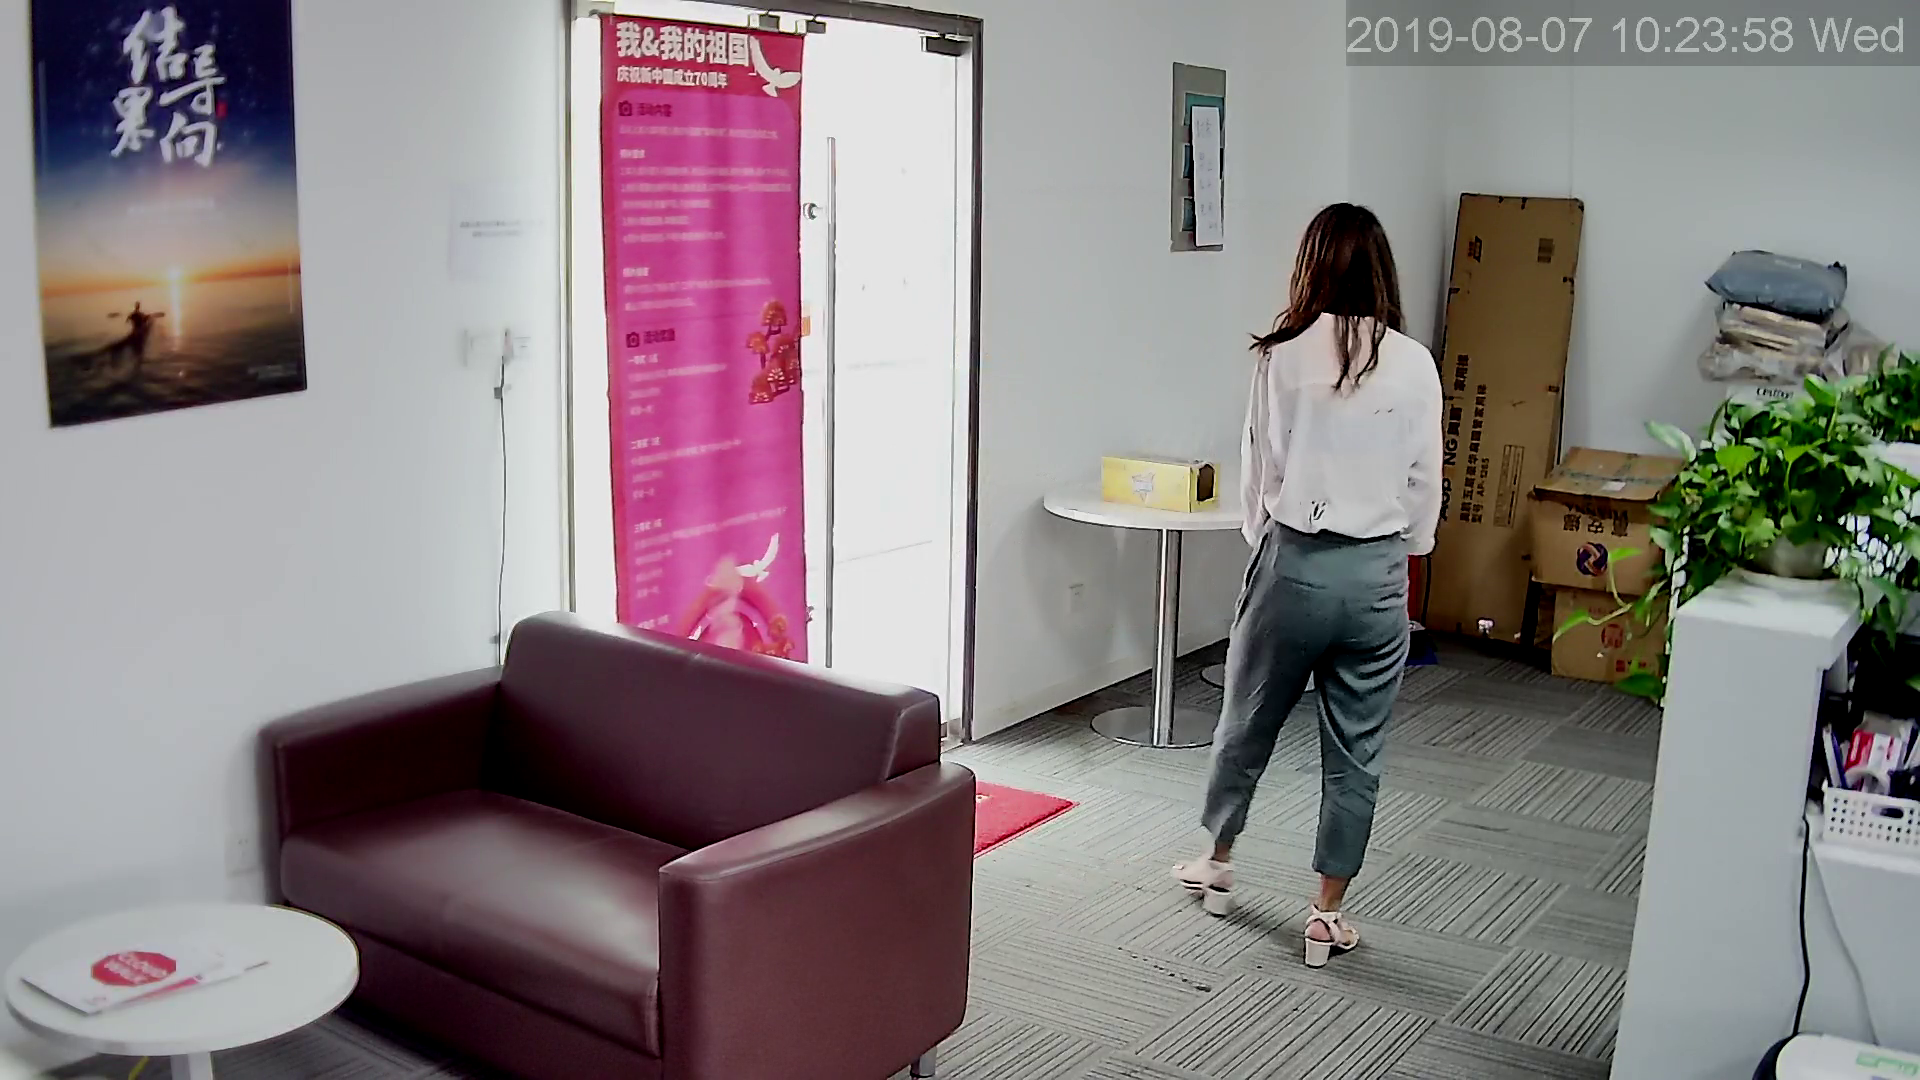bill: (597, 11, 808, 669), (28, 3, 311, 433)
